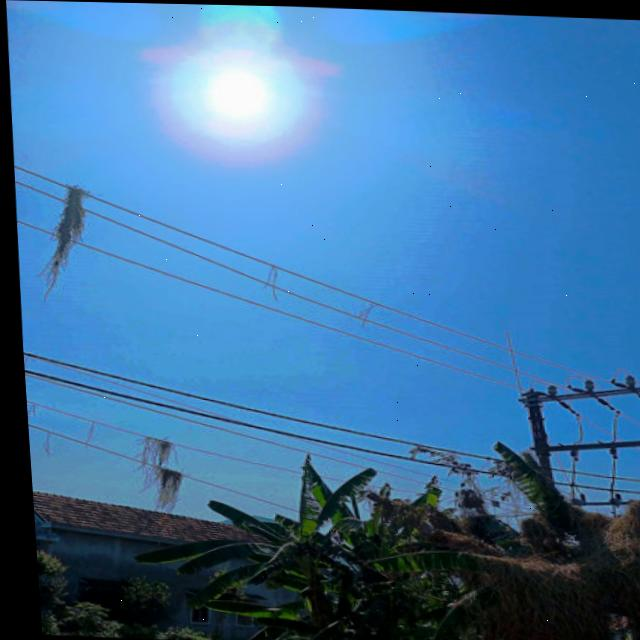obstruction: (41, 177, 88, 294), (339, 293, 387, 332), (249, 249, 278, 307)
poles: (503, 376, 640, 506)
wires: (80, 191, 581, 383), (29, 351, 499, 511), (13, 163, 70, 240), (547, 464, 640, 486), (627, 393, 640, 404)
